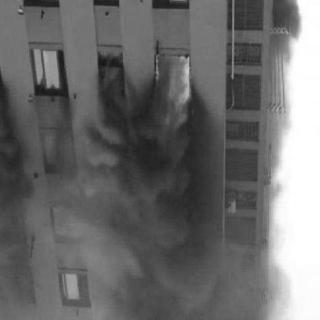Fire: (149, 50, 196, 136)
Smoke: (72, 100, 242, 318)
